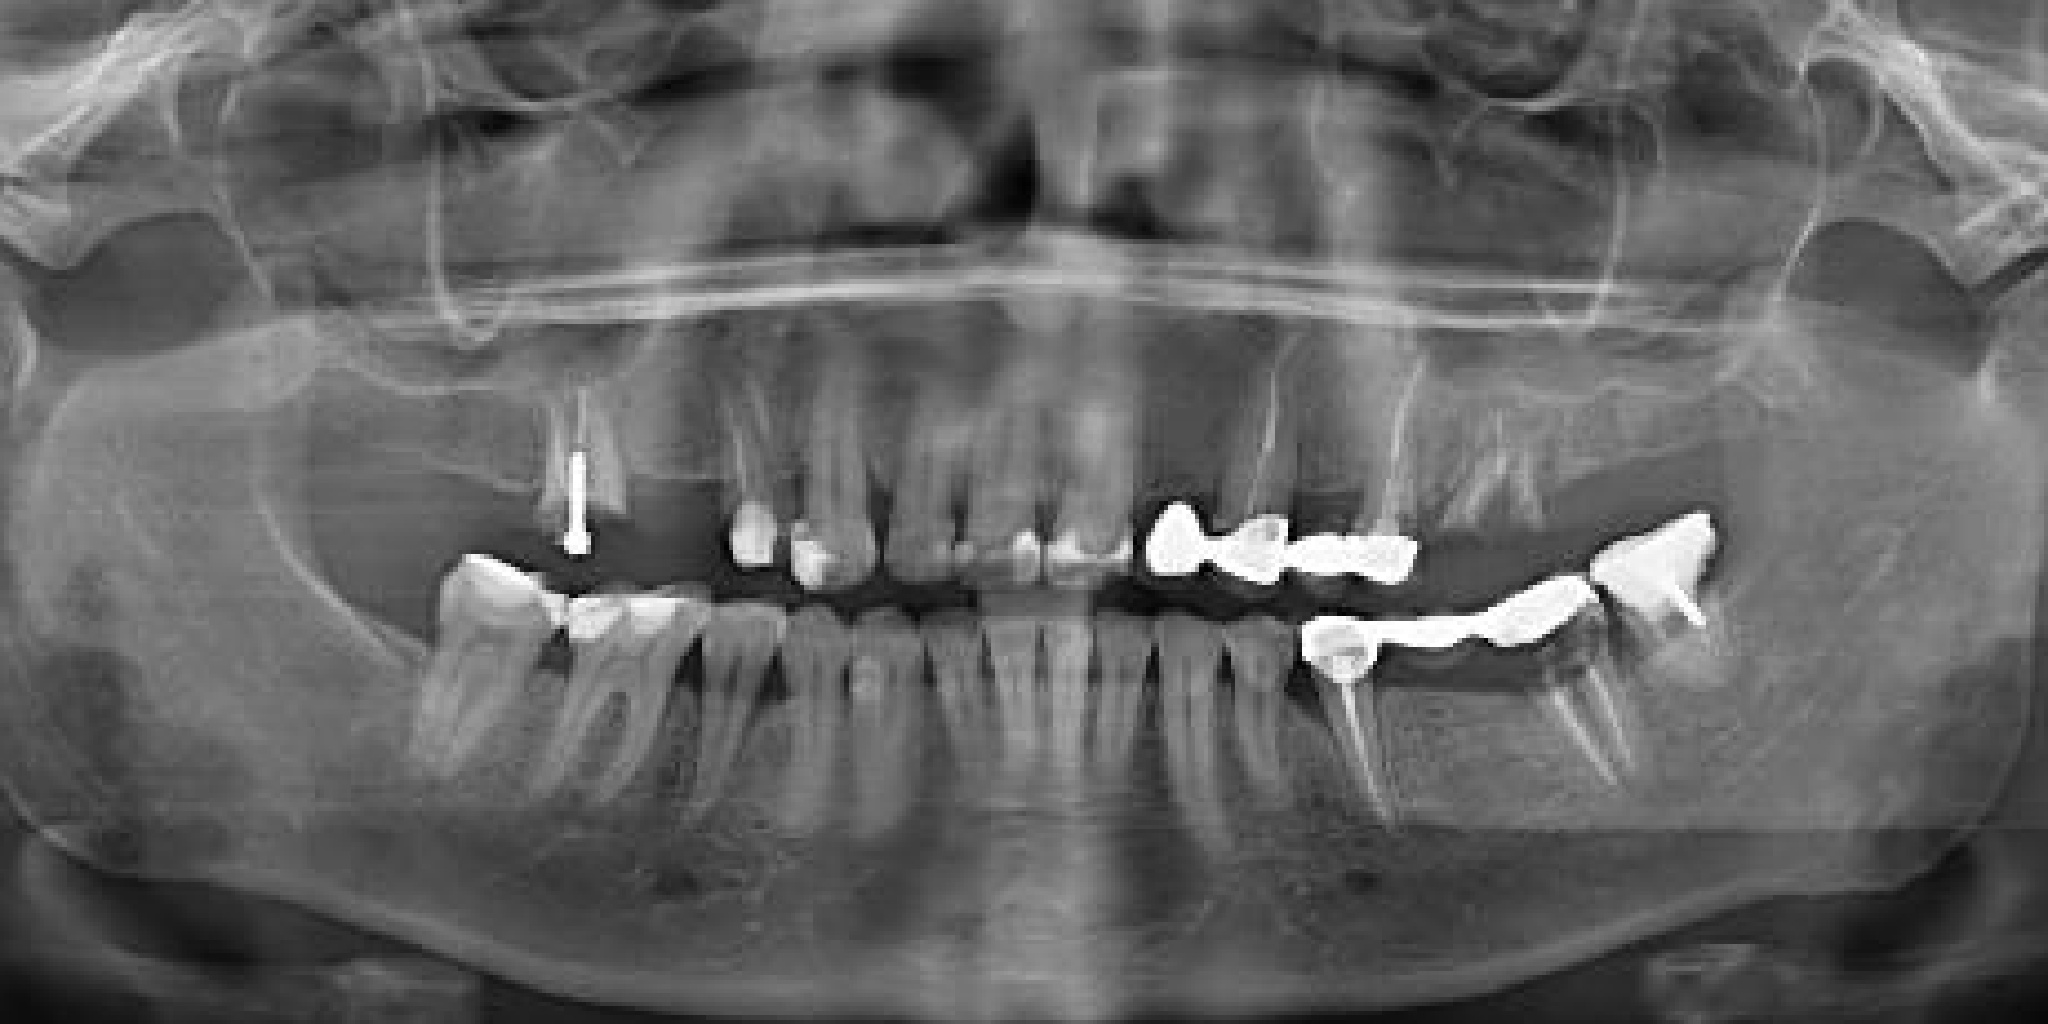Tooth: (415, 481, 789, 927), (1405, 482, 1768, 929), (294, 464, 639, 910), (1524, 406, 1843, 849), (1208, 519, 1522, 963), (1051, 538, 1349, 976), (568, 511, 865, 950), (1256, 232, 1546, 670), (1126, 226, 1411, 661), (664, 522, 936, 953), (609, 219, 876, 647), (1135, 519, 1401, 946), (748, 543, 1010, 969), (977, 240, 1224, 661), (995, 519, 1236, 938), (952, 519, 1186, 935), (456, 225, 690, 641), (1388, 218, 1616, 631), (903, 511, 1130, 923), (846, 519, 1074, 931)
